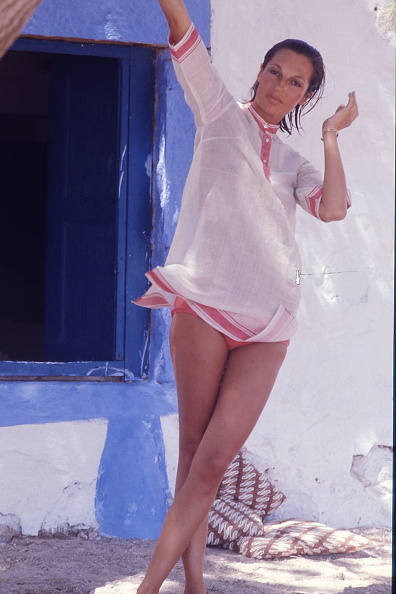em pe: (111, 0, 364, 594)
